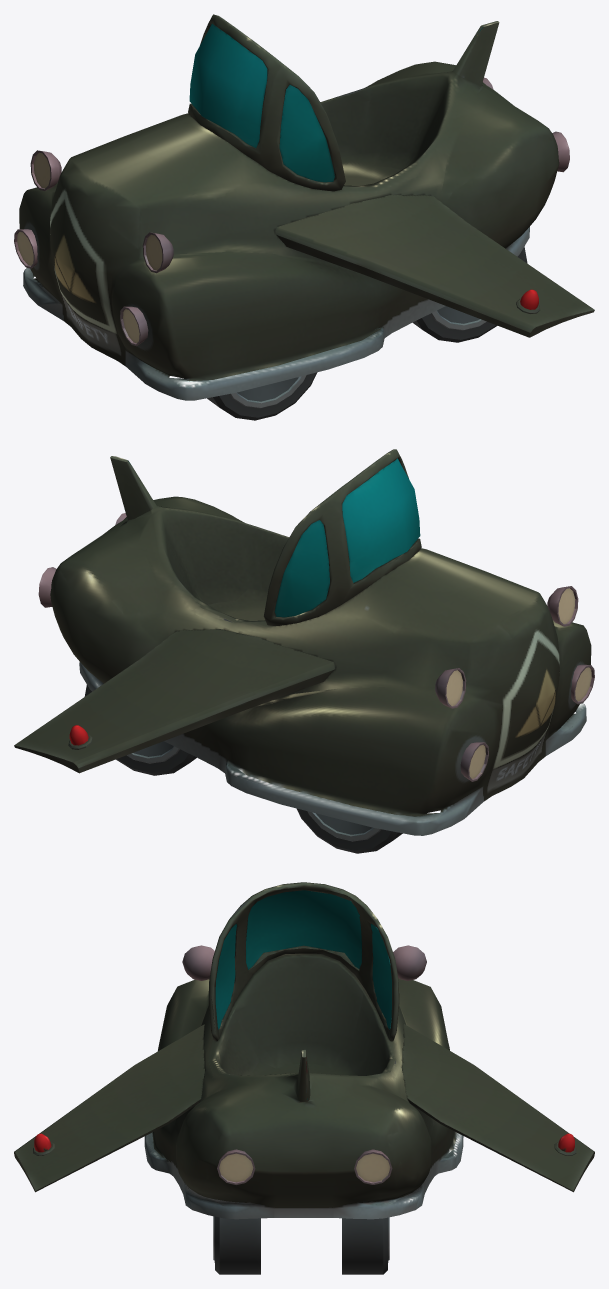
Rendered from ThomasScratcher.fbx.
3 renders of one model, top to bottom at view 1: azimuth 30°, elevation 25°; view 2: azimuth 150°, elevation 25°; view 3: azimuth 270°, elevation 25°, orthographic. The views are drawn at different scales.
Parts seen in each view (by area): view 1: car, Group003, Group001, Group002; view 2: car, Group003, Group002, Group001; view 3: car, Group003, Group002, Group001.
Boxes of the visible parts, box(x1,y1,x2,y2) form: car: box(19, 14, 594, 400); Group003: box(207, 246, 527, 420); Group001: box(120, 131, 569, 346); Group002: box(14, 77, 493, 268); car: box(14, 449, 591, 835); Group003: box(84, 685, 402, 853); Group002: box(38, 567, 488, 781); Group001: box(115, 513, 594, 704); car: box(14, 882, 594, 1219); Group003: box(213, 1199, 389, 1274); Group002: box(354, 945, 576, 1184); Group001: box(33, 945, 255, 1184).
Bounding box in the file's own units: 78.82 × 53.16 × 93.21.
